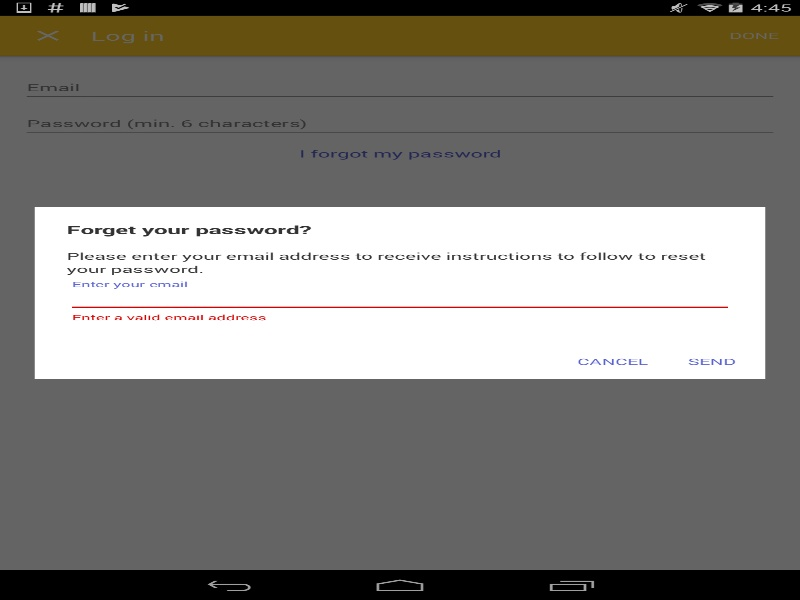Button: (566, 349, 658, 373), (669, 349, 754, 373)
Input: (66, 287, 733, 312)
